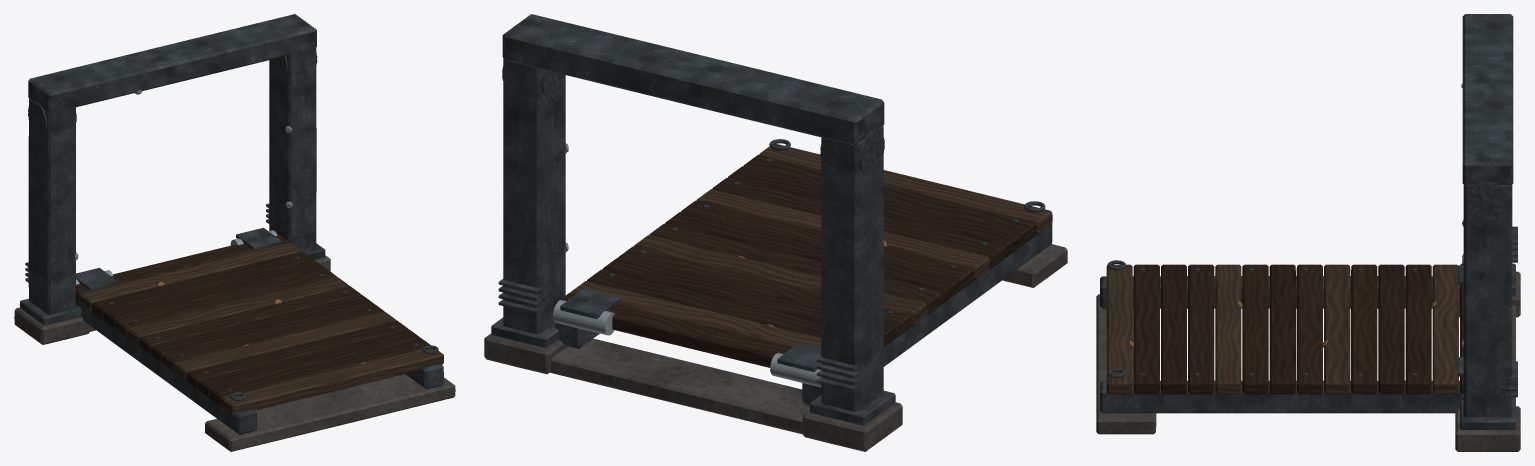
3 views of the same model, side by side, from view 1: azimuth 30°, elevation 25°; view 2: azimuth 150°, elevation 25°; view 3: azimuth 270°, elevation 25° (orthographic). The views are drawn at different scales.
Visible parts, largest first — view 1: gunmetal-cast-iron (×2), quarter-sawn-timber, exposed-end-grain, foundry-slag-brick; view 2: gunmetal-cast-iron (×2), quarter-sawn-timber, foundry-slag-brick, exposed-end-grain, machined-bearing-steel; view 3: quarter-sawn-timber, gunmetal-cast-iron (×2), exposed-end-grain, foundry-slag-brick.
Boxes of the visible parts, bbox=[...] form: gunmetal-cast-iron (×2): bbox=[19, 14, 443, 434]; quarter-sawn-timber: bbox=[76, 234, 430, 406]; exposed-end-grain: bbox=[80, 242, 443, 415]; foundry-slag-brick: bbox=[14, 255, 455, 451]; gunmetal-cast-iron (×2): bbox=[491, 14, 1052, 425]; quarter-sawn-timber: bbox=[555, 154, 1036, 367]; foundry-slag-brick: bbox=[484, 244, 1067, 451]; exposed-end-grain: bbox=[571, 144, 1052, 346]; machined-bearing-steel: bbox=[553, 300, 821, 387]; quarter-sawn-timber: bbox=[1133, 264, 1463, 394]; gunmetal-cast-iron (×2): bbox=[1100, 14, 1517, 429]; exposed-end-grain: bbox=[1106, 264, 1458, 394]; foundry-slag-brick: bbox=[1096, 271, 1520, 451].
Bounding box in the file's own units: 2.05 × 1.67 × 2.26.
Materials: 7 (5 with a texture image).
